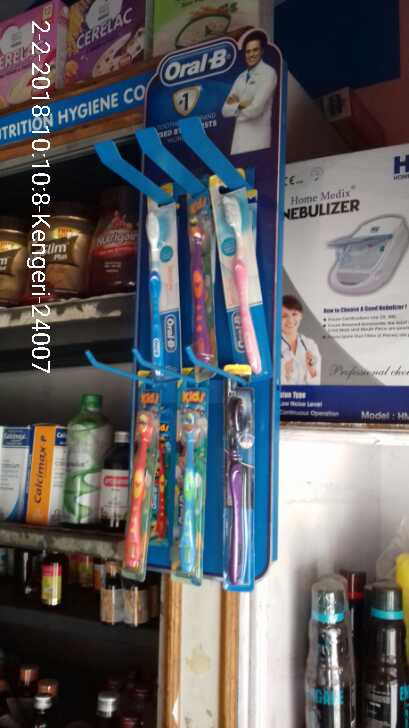oralb: (210, 173, 271, 373), (222, 368, 256, 597), (148, 189, 182, 377)
